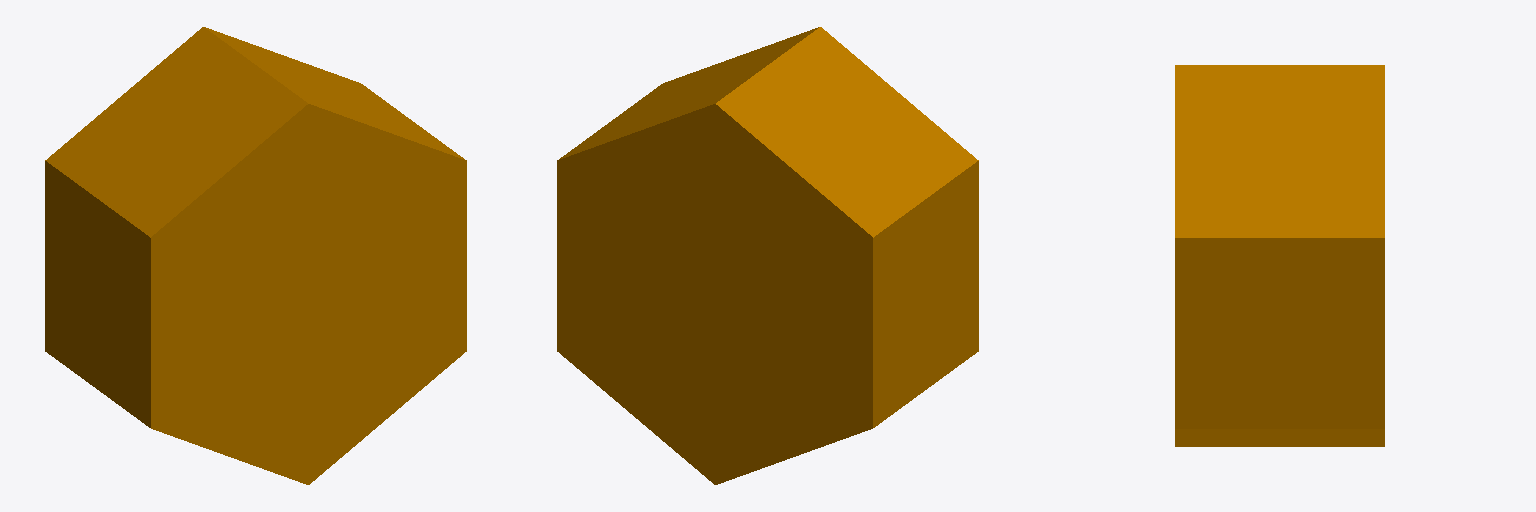
Rendered from RoverBody.obj.
3 views of the same model, side by side, from view 1: azimuth 30°, elevation 25°; view 2: azimuth 150°, elevation 25°; view 3: azimuth 270°, elevation 25° (orthographic).
Parts seen in each view (by area): view 1: Cylinder1; view 2: Cylinder1; view 3: Cylinder1.
Part boxes in pixels (left/top/right/bottom): Cylinder1: left=45, top=27, right=466, bottom=484; Cylinder1: left=557, top=27, right=978, bottom=484; Cylinder1: left=1175, top=65, right=1384, bottom=446.
Size of the model in its own units: 0.866 by 1 by 0.5.